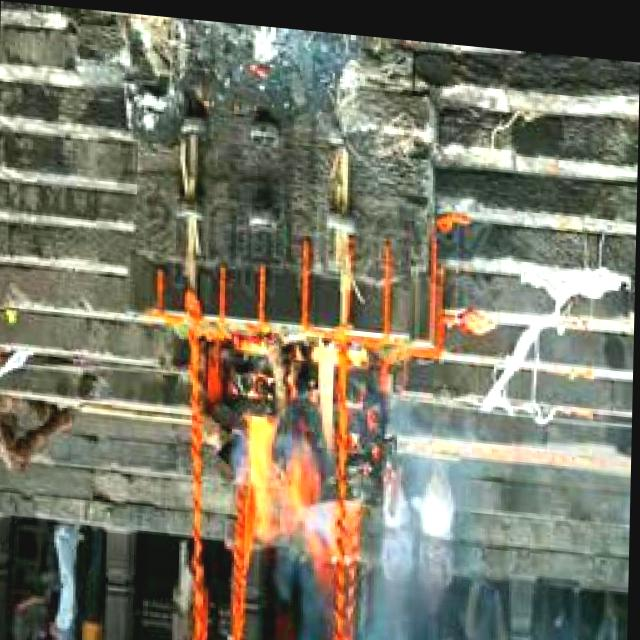helmet: (246, 317, 340, 547)
